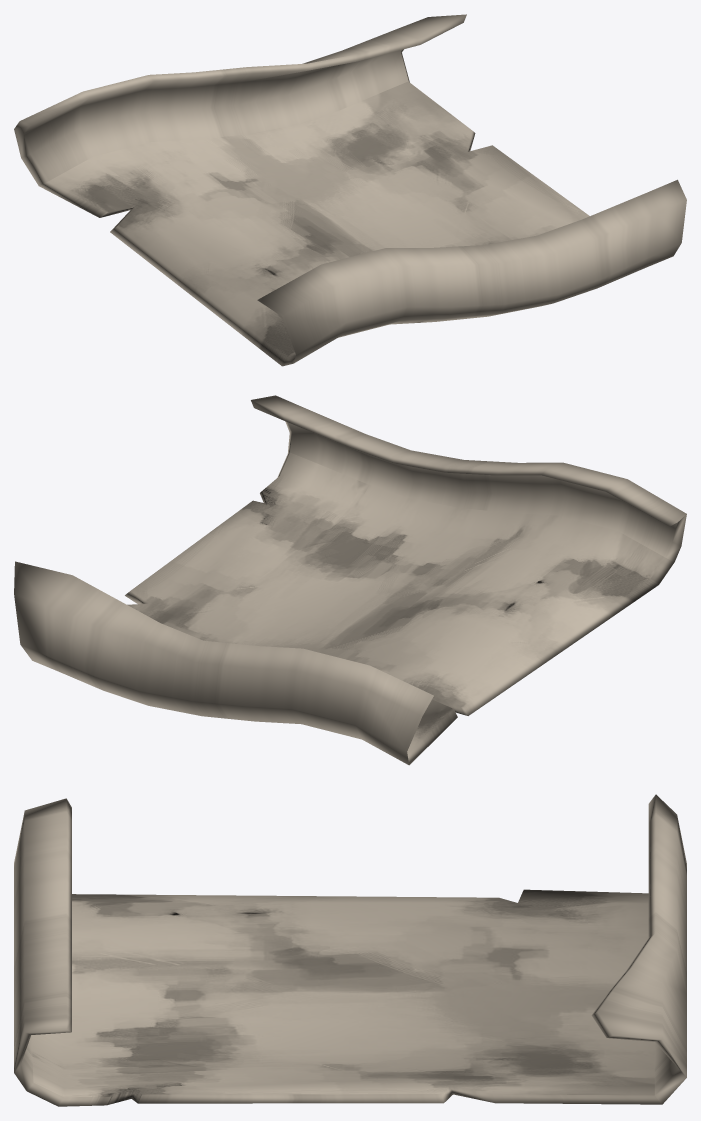
The model's file is Parchment.gltf.
3 views of the same model, one above another, from view 1: azimuth 30°, elevation 25°; view 2: azimuth 150°, elevation 25°; view 3: azimuth 270°, elevation 25° (orthographic). The views are drawn at different scales.
Visible parts, largest first — view 1: Parchment; view 2: Parchment; view 3: Parchment.
Boxes of the visible parts, <box> form: Parchment: <box>14,14,686,366</box>; Parchment: <box>14,395,686,765</box>; Parchment: <box>14,794,686,1106</box>.
Size of the model in its own units: 0.238 by 0.049 by 0.2605.
Materials: 2 (2 with a texture image).
